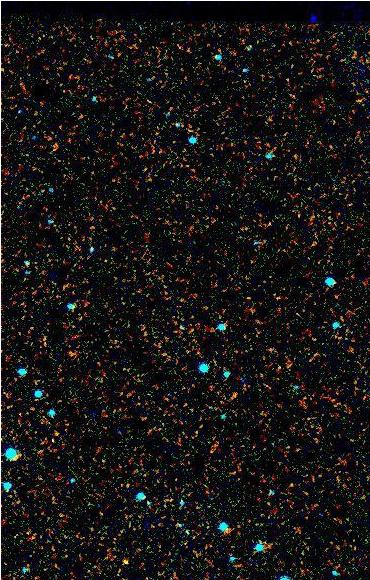star: (112, 546, 142, 576)
